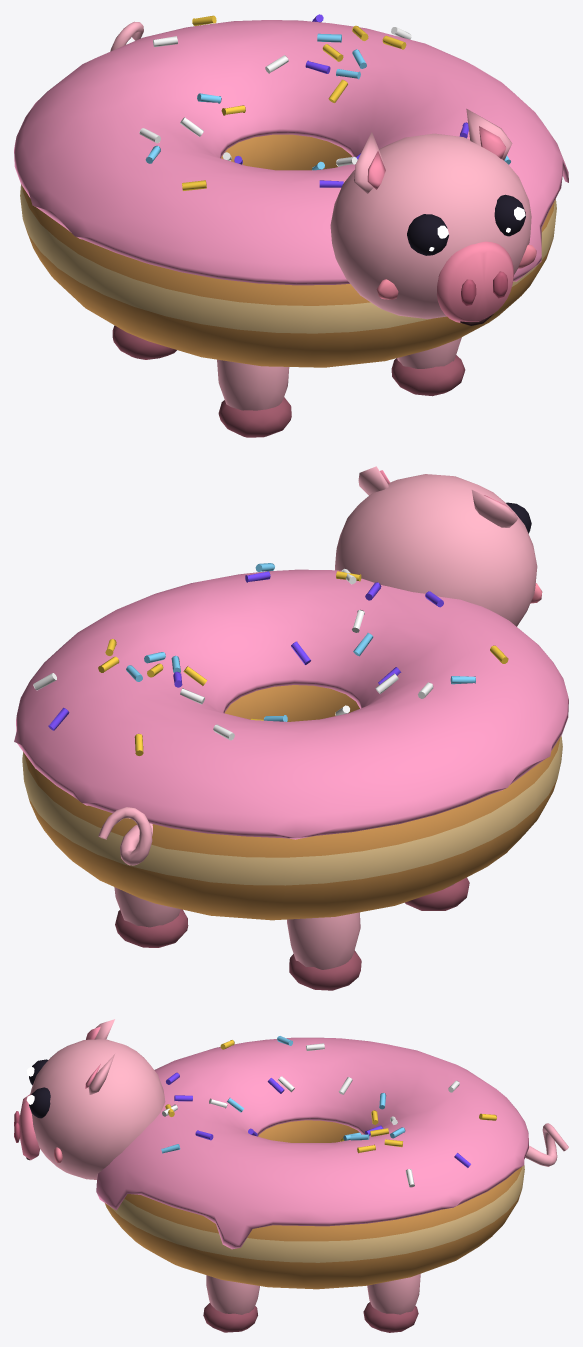
Rendered from pilot_gris_smultring_lav.glb.
The picture shows the model from 3 angles, top to bottom: view 1: azimuth 30°, elevation 25°; view 2: azimuth 150°, elevation 25°; view 3: azimuth 270°, elevation 25°; orthographic projection. The views are drawn at different scales.
Parts seen in each view (by area): view 1: kropp, hode, bein_vf, bein_hf, bein_vb; view 2: kropp, hode, bein_vb, bein_hb, hale, bein_vf; view 3: kropp, hode, bein_hb, bein_hf, hale.
Part boxes in pixels (x1,y1,x2,y2): kropp: (14, 14, 568, 367); hode: (330, 108, 536, 325); bein_vf: (217, 359, 291, 437); bein_hf: (391, 337, 465, 396); bein_vb: (112, 325, 176, 359); kropp: (14, 563, 568, 920); hode: (335, 466, 542, 626); bein_vb: (287, 912, 361, 990); bein_hb: (114, 887, 188, 947); hale: (98, 807, 152, 865); bein_vf: (405, 877, 469, 910); kropp: (96, 1036, 528, 1289); hode: (14, 1019, 165, 1179); bein_hb: (363, 1274, 420, 1332); bein_hf: (203, 1275, 259, 1332); hale: (525, 1123, 568, 1166).
Size of the model in its own units: 1.46 by 1.04 by 2.01.
